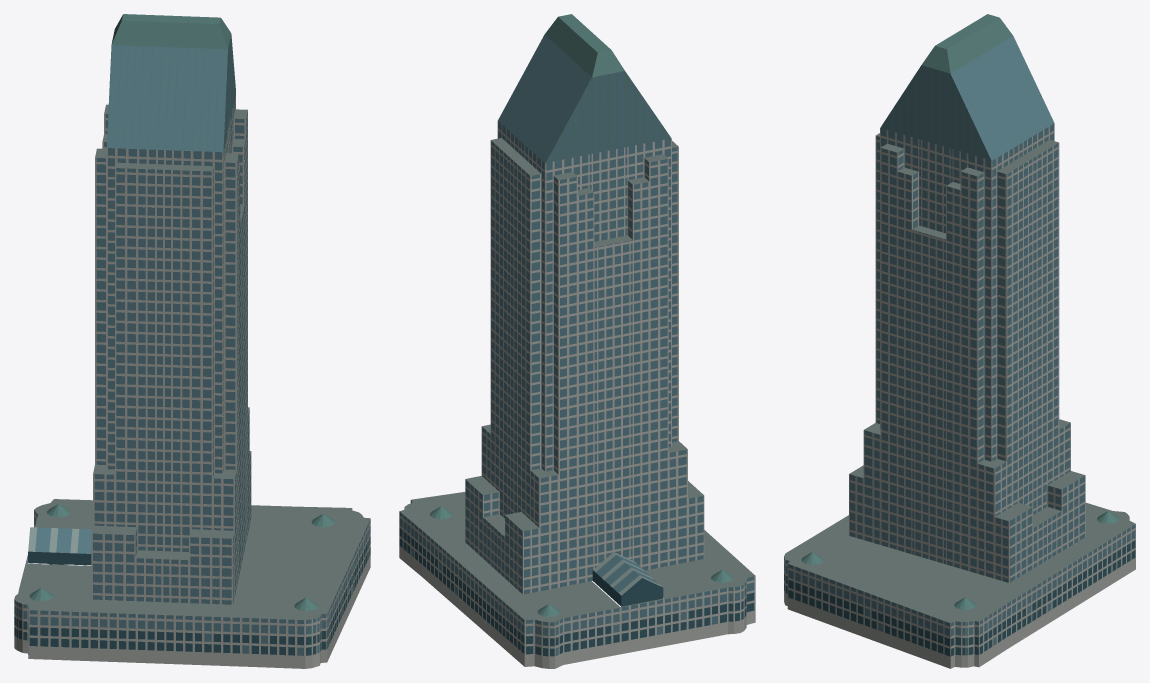
The model's file is tour-1000-de-la-gauchetiere-near.glb.
The picture shows the model from 3 angles, left to right: view 1: azimuth 30°, elevation 25°; view 2: azimuth 150°, elevation 25°; view 3: azimuth 270°, elevation 25°; orthographic projection. The views are drawn at different scales.
Visible parts, largest first — view 1: tour-1000-de-la-gauchetiere-0-glass, tour-1000-de-la-gauchetiere-0-stone, tour-1000-de-la-gauchetiere-0-roof, tour-1000-de-la-gauchetiere-0-copper, tour-1000-de-la-gauchetiere-0-lobby, tour-1000-de-la-gauchetiere-0-glow, tour-1000-de-la-gauchetiere-0-trim; view 2: tour-1000-de-la-gauchetiere-0-glass, tour-1000-de-la-gauchetiere-0-stone, tour-1000-de-la-gauchetiere-0-roof, tour-1000-de-la-gauchetiere-0-copper, tour-1000-de-la-gauchetiere-0-lobby, tour-1000-de-la-gauchetiere-0-glow, tour-1000-de-la-gauchetiere-0-trim; view 3: tour-1000-de-la-gauchetiere-0-glass, tour-1000-de-la-gauchetiere-0-stone, tour-1000-de-la-gauchetiere-0-roof, tour-1000-de-la-gauchetiere-0-copper, tour-1000-de-la-gauchetiere-0-lobby, tour-1000-de-la-gauchetiere-0-glow.
Part boxes in pixels (x1,y1,x2,y2): tour-1000-de-la-gauchetiere-0-glass: (14, 34, 370, 634); tour-1000-de-la-gauchetiere-0-stone: (14, 95, 370, 668); tour-1000-de-la-gauchetiere-0-roof: (14, 104, 370, 620); tour-1000-de-la-gauchetiere-0-copper: (29, 14, 335, 611); tour-1000-de-la-gauchetiere-0-lobby: (14, 536, 370, 655); tour-1000-de-la-gauchetiere-0-glow: (16, 61, 365, 655); tour-1000-de-la-gauchetiere-0-trim: (28, 527, 79, 553); tour-1000-de-la-gauchetiere-0-glass: (399, 34, 754, 635); tour-1000-de-la-gauchetiere-0-stone: (399, 121, 755, 668); tour-1000-de-la-gauchetiere-0-roof: (399, 138, 755, 622); tour-1000-de-la-gauchetiere-0-copper: (430, 14, 733, 616); tour-1000-de-la-gauchetiere-0-lobby: (399, 528, 754, 656); tour-1000-de-la-gauchetiere-0-glow: (411, 84, 754, 655); tour-1000-de-la-gauchetiere-0-trim: (593, 552, 661, 595); tour-1000-de-la-gauchetiere-0-glass: (784, 36, 1135, 636); tour-1000-de-la-gauchetiere-0-stone: (784, 123, 1135, 668); tour-1000-de-la-gauchetiere-0-roof: (784, 133, 1135, 623); tour-1000-de-la-gauchetiere-0-copper: (801, 14, 1118, 609); tour-1000-de-la-gauchetiere-0-lobby: (784, 540, 1135, 656); tour-1000-de-la-gauchetiere-0-glow: (784, 69, 1125, 645).
Size of the model in its own units: 128 by 205 by 119.
